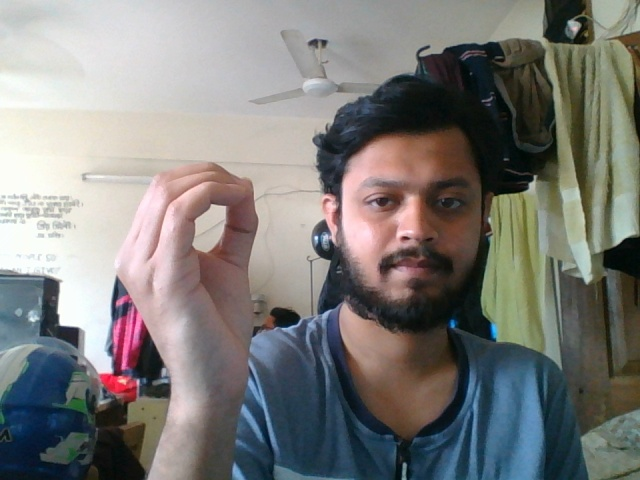oo: (112, 154, 261, 423)
